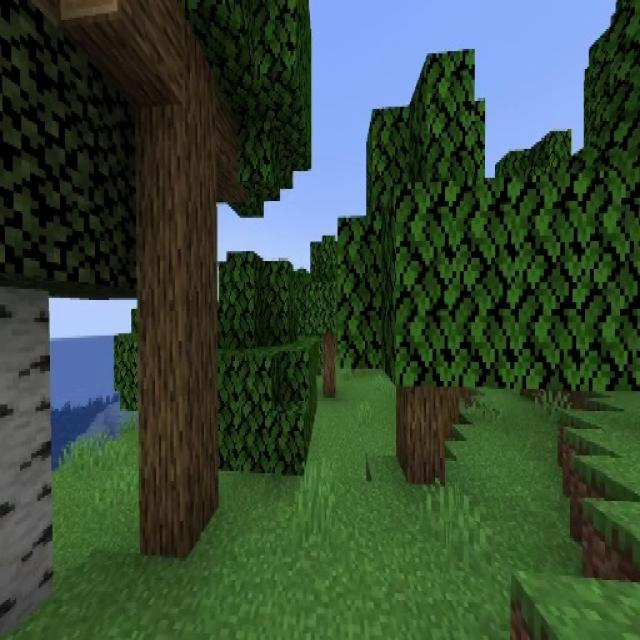birch_log: (0, 289, 50, 634)
oak: (340, 84, 534, 478), (299, 234, 363, 398)
oak_log: (141, 17, 224, 544), (398, 379, 443, 481), (322, 335, 335, 398)
